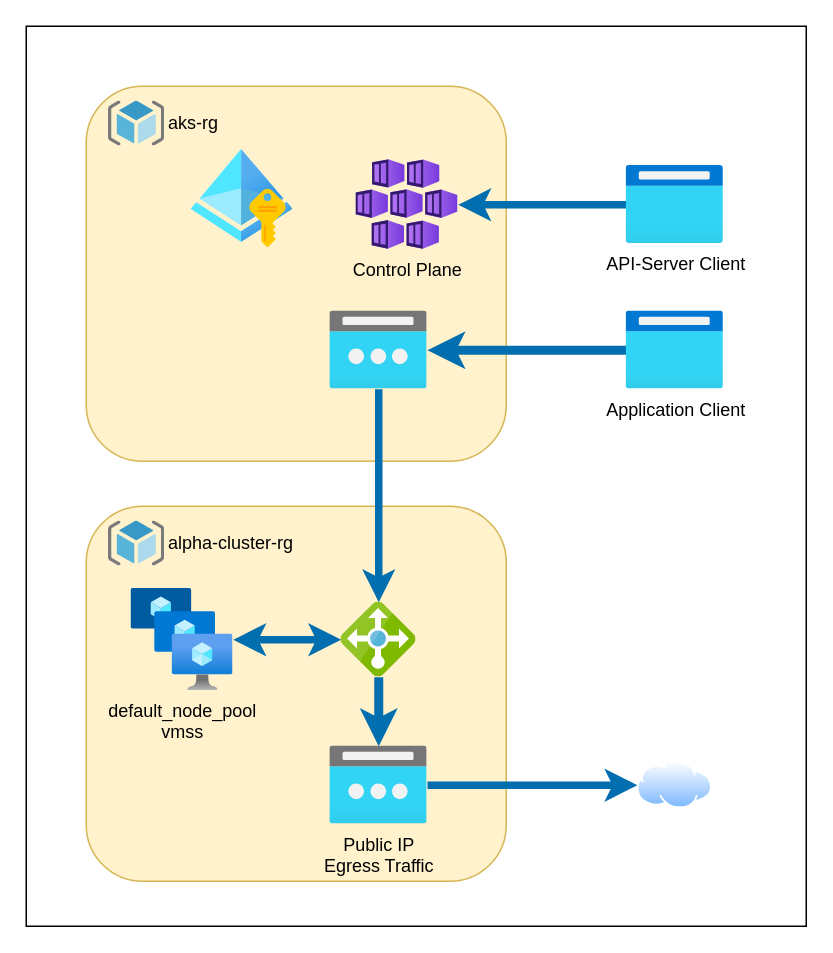
The diagram is 833 pixels wide and 953 high, and some of its shapes have lost their labels. Each missing label, with the centre of its shape:
"alpha-cluster-pip Ingress Traffic" belongs at (378,349).
"alpha-cluster-user" belongs at (241,198).
"Internet" belongs at (674,784).
"Load Balancer" belongs at (378,639).
